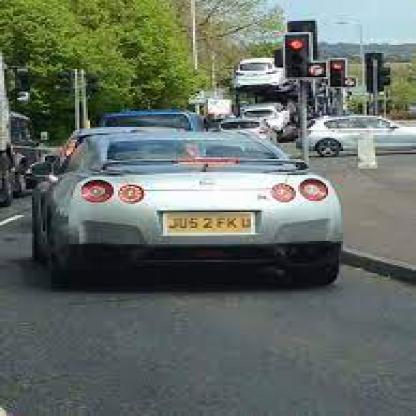car: (30, 132, 347, 296), (294, 107, 414, 158), (230, 58, 292, 90)
